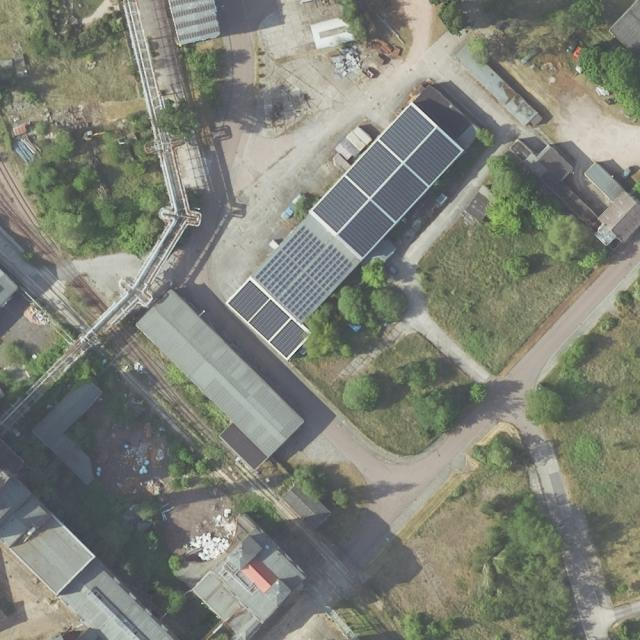PV: (310, 104, 461, 257), (256, 224, 353, 322), (226, 279, 308, 359)
